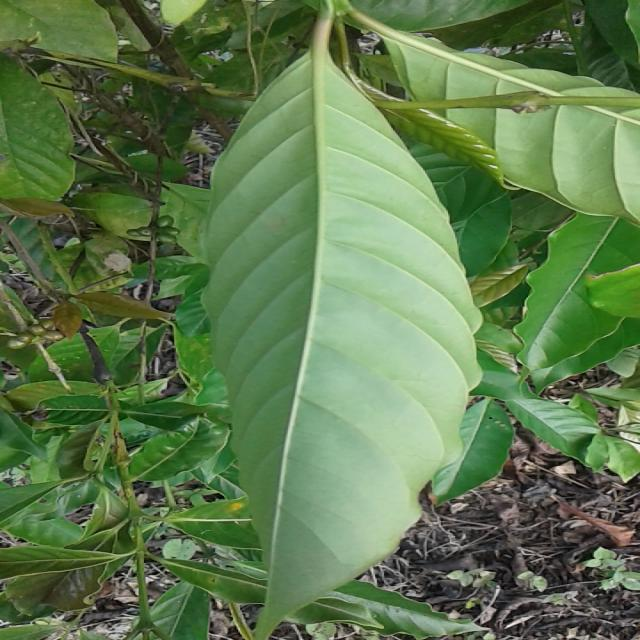Sanas: (201, 30, 512, 640)
